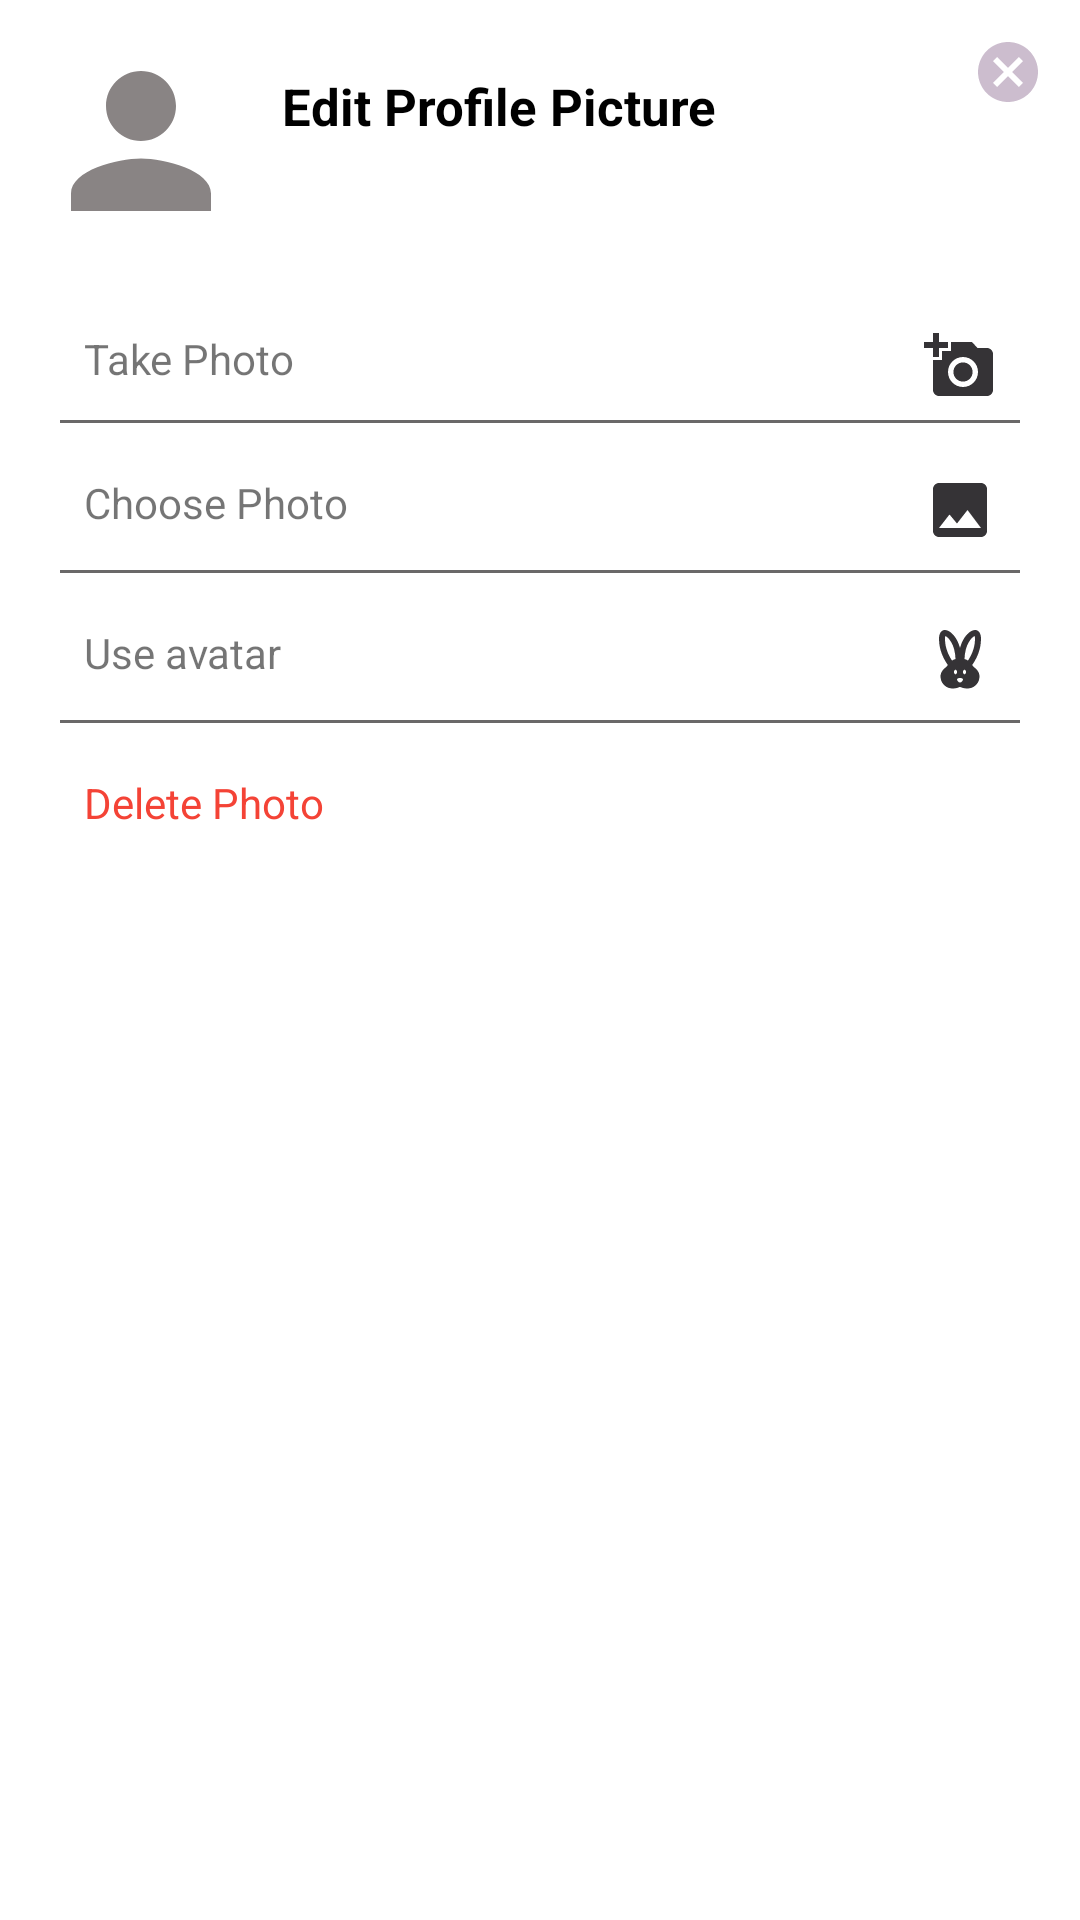

Screen size 1080*1920. Icon name, then its box in pixels as (x1, y1, x2, y2):
add photo: (924, 333, 993, 396)
cancel: (978, 42, 1038, 102)
cruelty free: (939, 630, 981, 689)
person: (71, 71, 211, 211)
photo: (933, 483, 987, 537)
